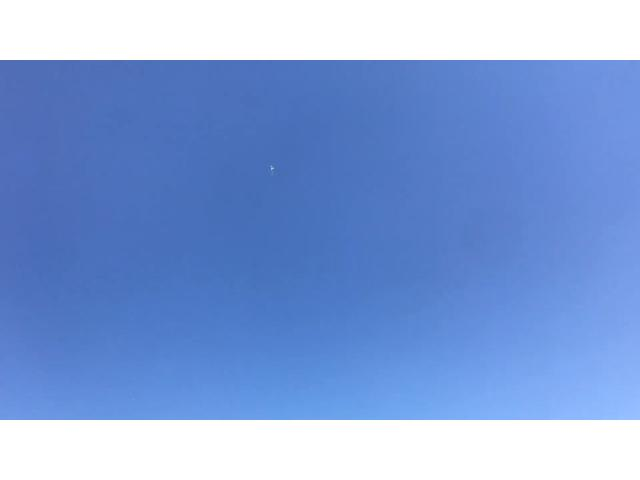Anti-Drone: (260, 161, 282, 178)
